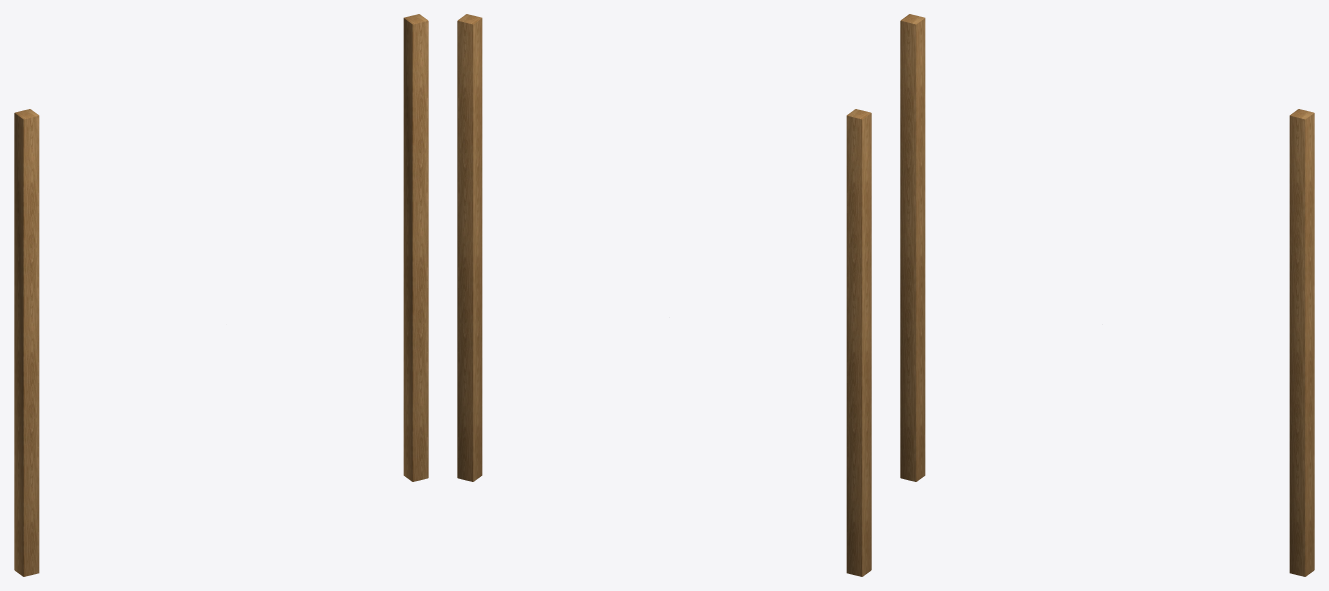
File: SER-PLC-001_anim.glb
3 views of the same model, side by side, from view 1: azimuth 30°, elevation 25°; view 2: azimuth 150°, elevation 25°; view 3: azimuth 330°, elevation 25° (orthographic).
Parts seen in each view (by area): view 1: SER-PLC-001_anim0; view 2: SER-PLC-001_anim0; view 3: SER-PLC-001_anim0.
Boxes of the visible parts, x1=… form: SER-PLC-001_anim0: x1=14, y1=14, x2=428, y2=576; SER-PLC-001_anim0: x1=457, y1=14, x2=871, y2=576; SER-PLC-001_anim0: x1=900, y1=14, x2=1314, y2=576.
Size of the model in its own units: 2.5 by 2.7 by 0.1028.
Materials: 6 (1 with a texture image).
